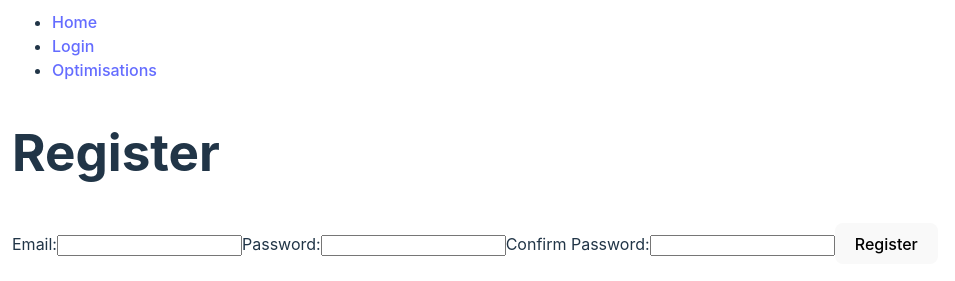
Test: Register Page › should redirect if there is no errors
Type "test2@email.com" into the field labelled "Email:". click: (150, 245)
box: [57,235,242,256]
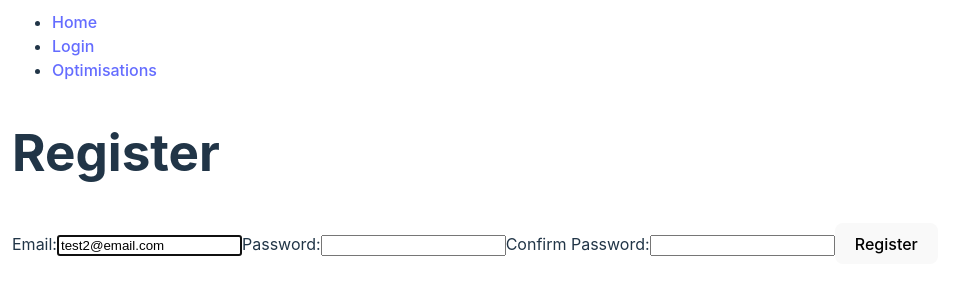
Type "secret" into the password field labelled "Password:". click: (413, 245)
box: [321,235,506,256]
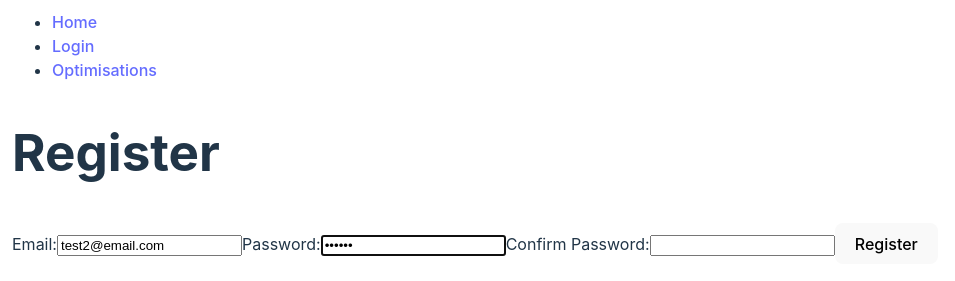
Type "secret" into the password field labelled "Confirm Password:". click: (742, 245)
box: [650,235,835,256]
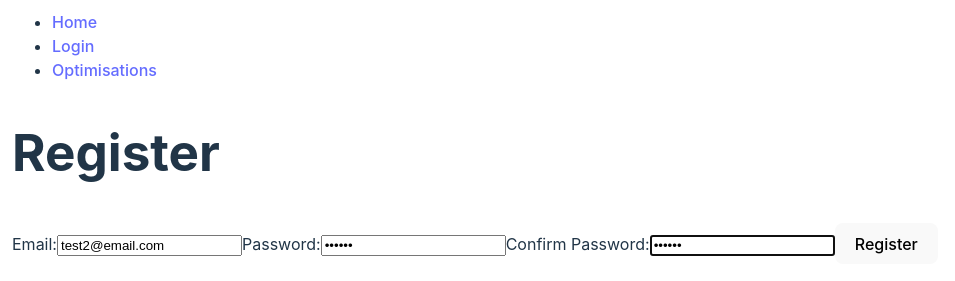
Click the button. click: (886, 244)
box: [835,223,938,264]
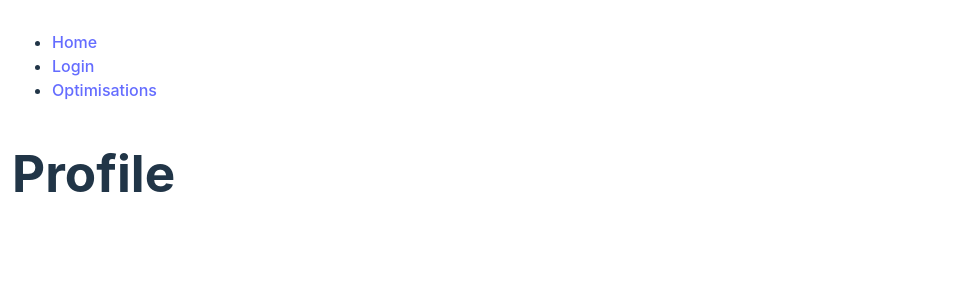
Result: the heading "Profile" is shown at [12,145,175,201]
